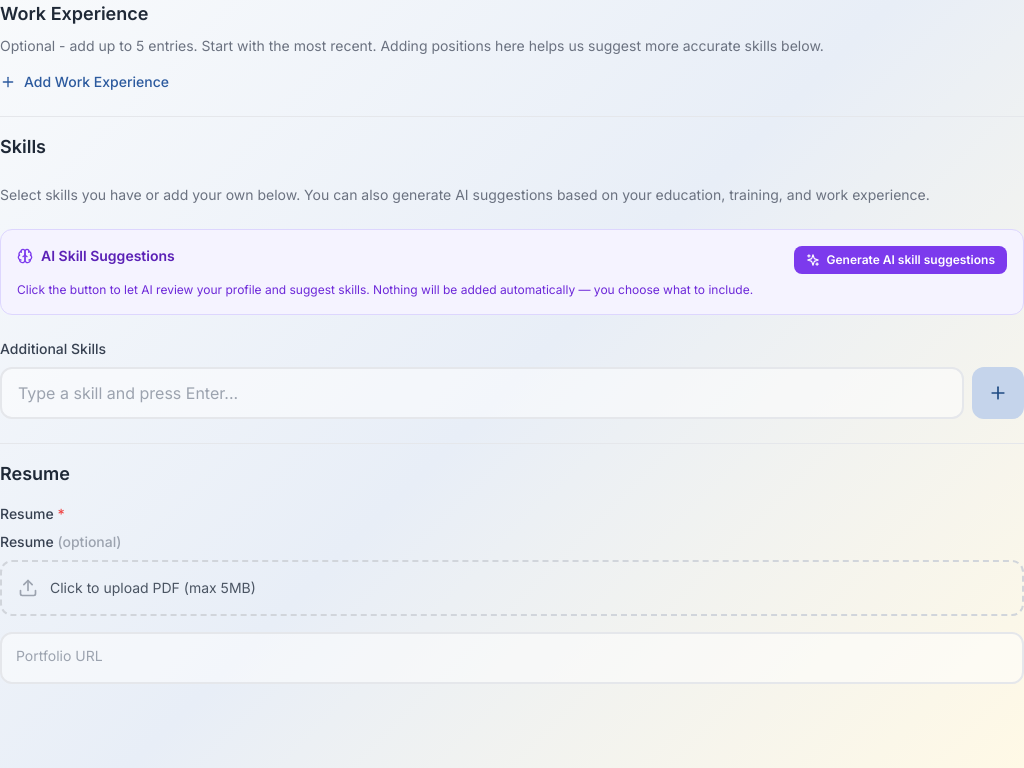
it: Step5SkillsExperience — AI skill suggestions › renders AI profileSkills and growthSkills after a successful AI response
Click the button "Generate AI skill suggestions": (901, 260) [794, 246, 1007, 274]
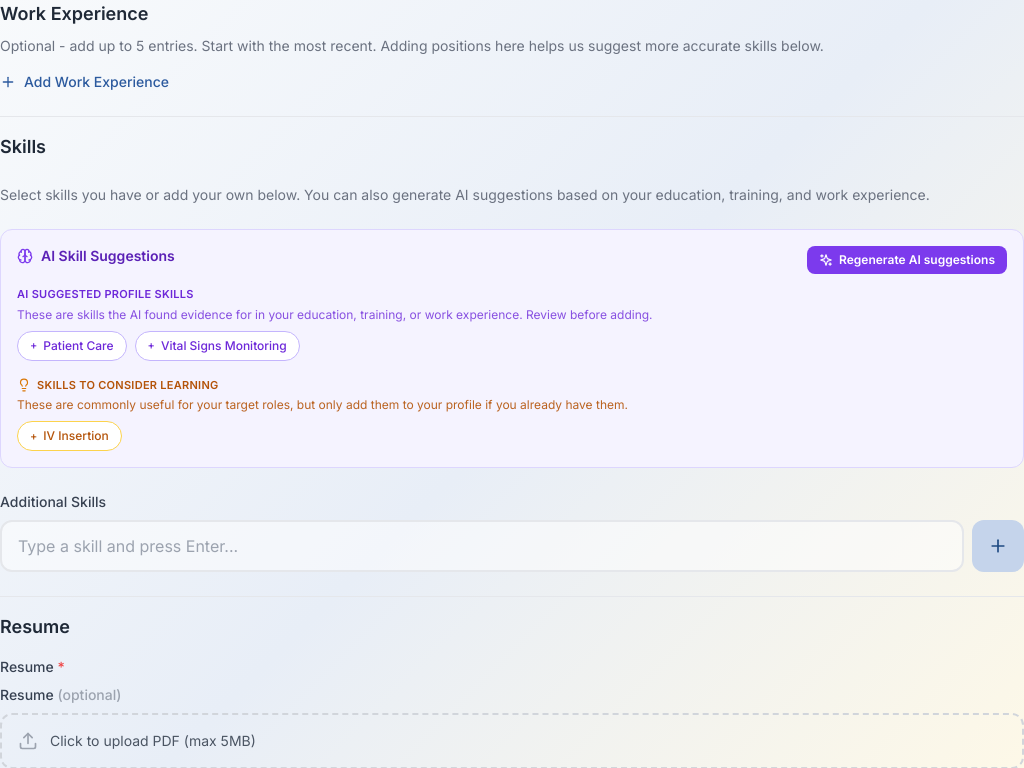
expect the text "AI Suggested Profile Skills" is shown: met, box [17, 287, 194, 301]
expect the text "Patient Care" is shown: met, box [43, 338, 114, 354]
expect the text "Vital Signs Monitoring" is shown: met, box [161, 338, 287, 354]
